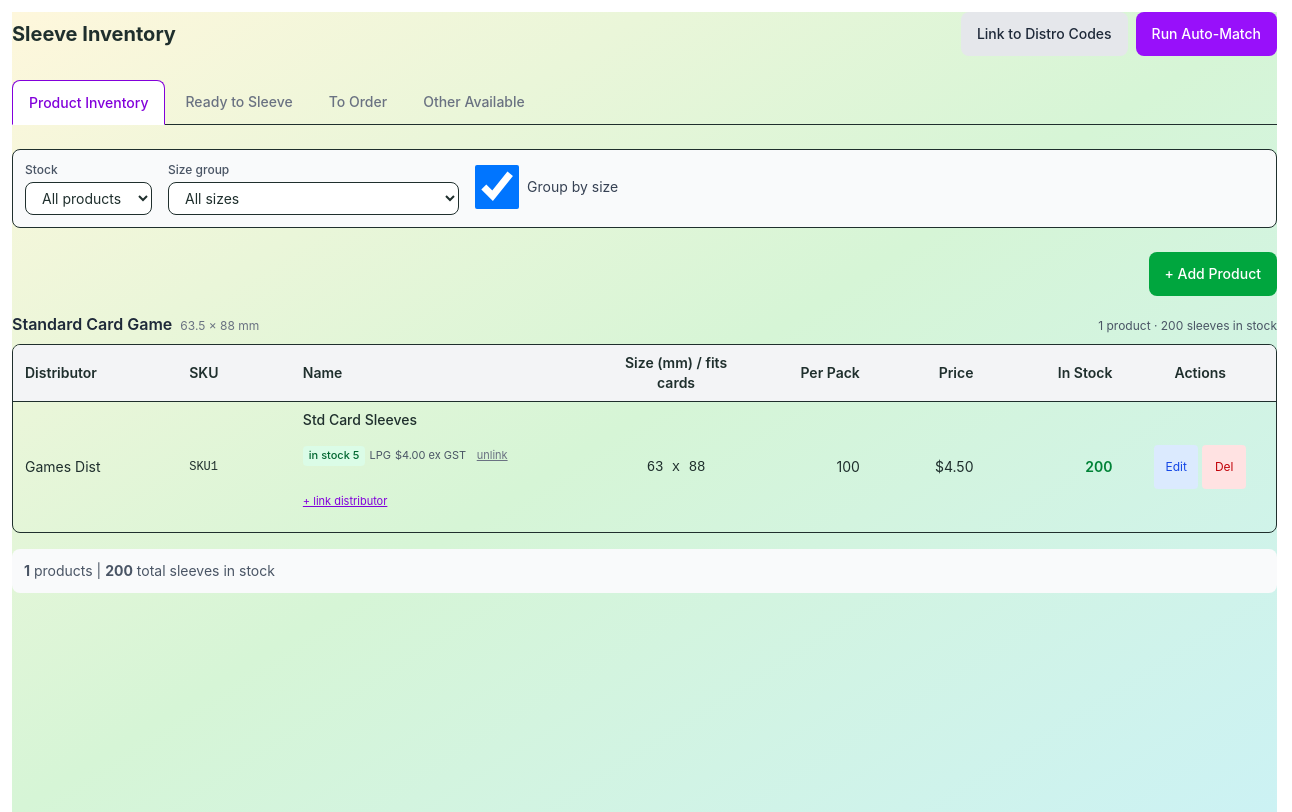
SleeveInventoryTab › auto-match failure shows an error
Expected: the text "Std Card Sleeves" is shown, left=303, top=411, right=417, bottom=428
Click the button "Run Auto-Match". click: (1206, 34)
box: left=1136, top=12, right=1277, bottom=56
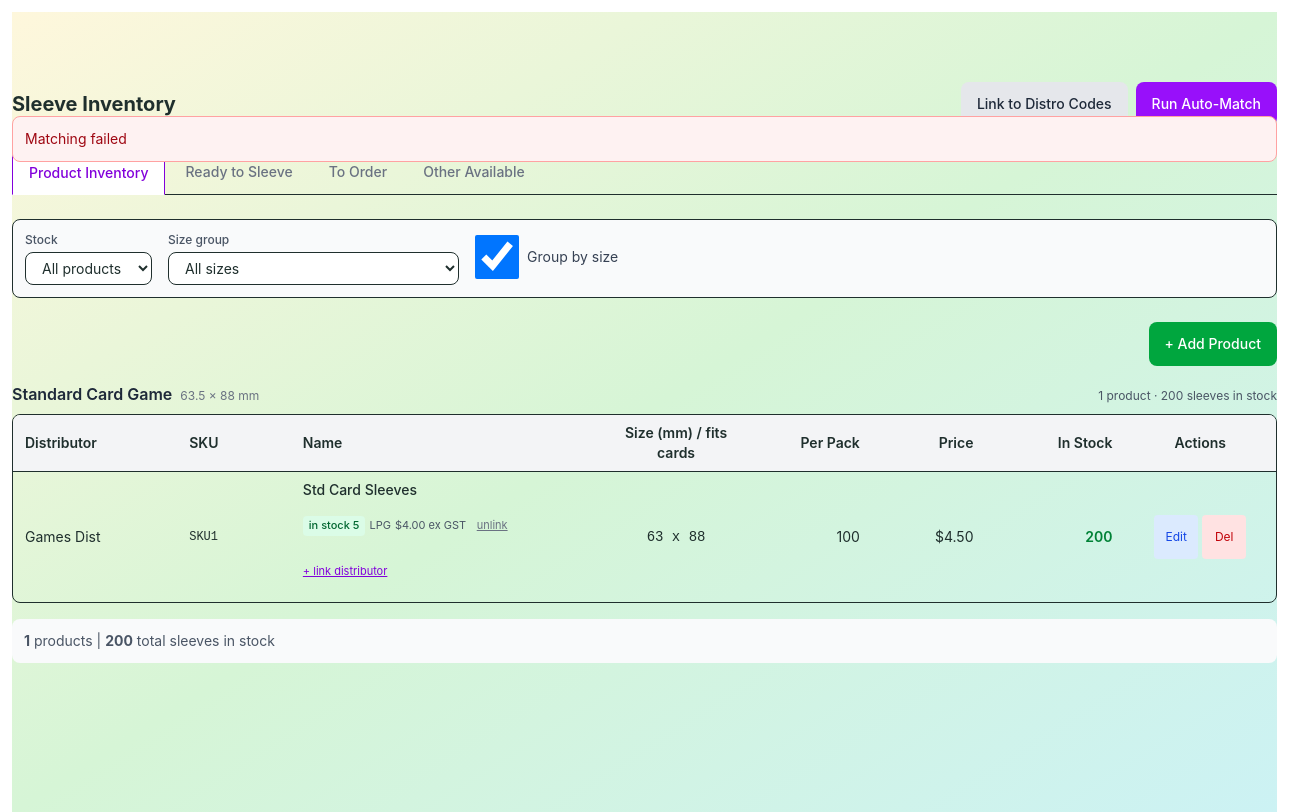
Expected: the text "Matching failed" is shown, left=12, top=116, right=1277, bottom=162
